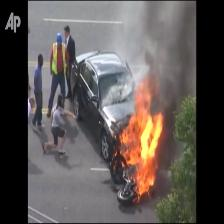fire: (121, 78, 163, 195)
